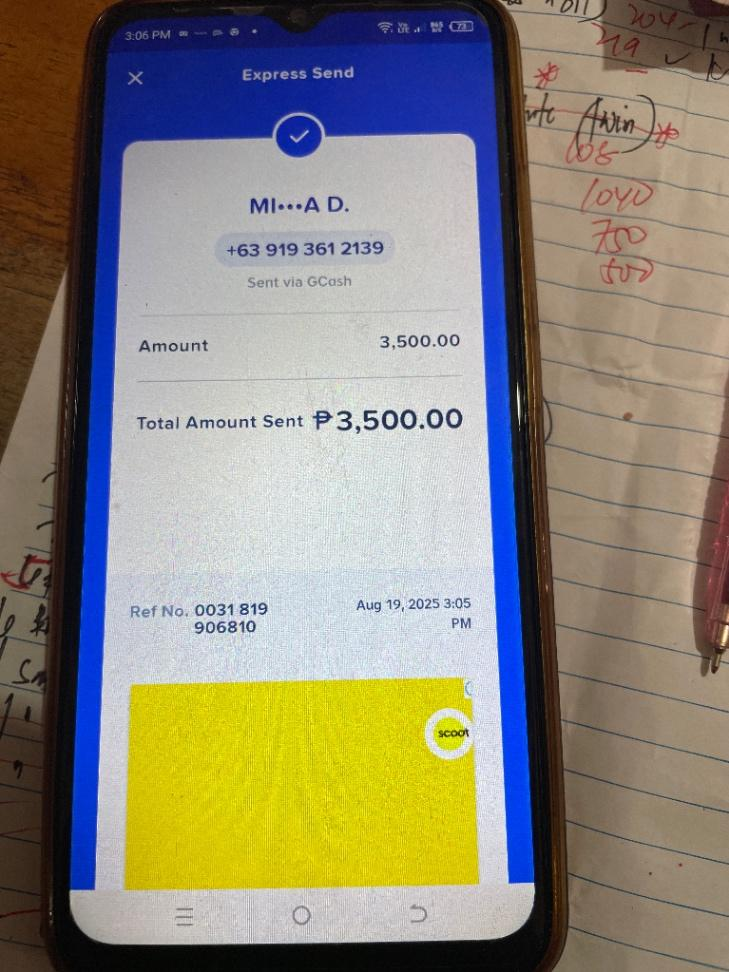Receipt: (72, 45, 532, 883)
